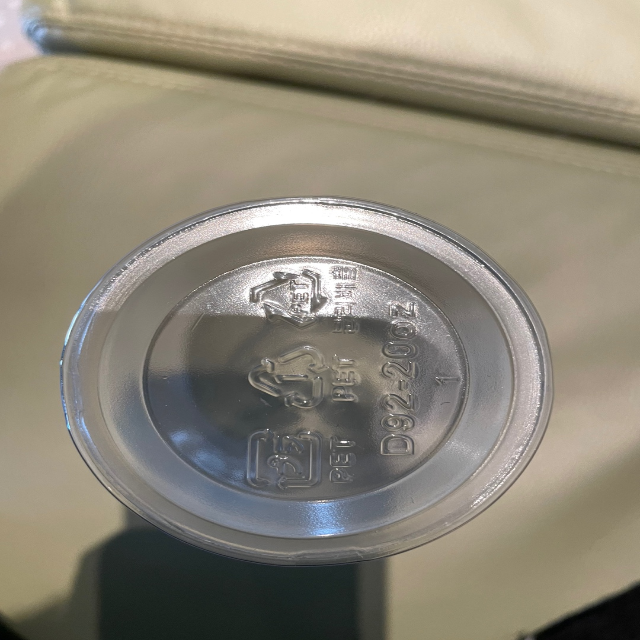pet: (248, 259, 367, 339), (244, 422, 363, 494), (245, 346, 362, 414)
